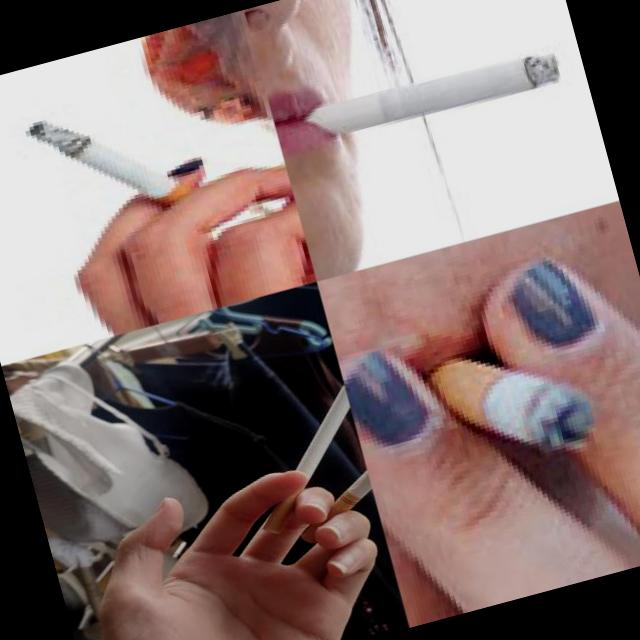cigarette: (20, 79, 223, 258), (300, 42, 562, 148), (422, 325, 600, 479), (230, 384, 378, 540), (274, 420, 382, 549)
